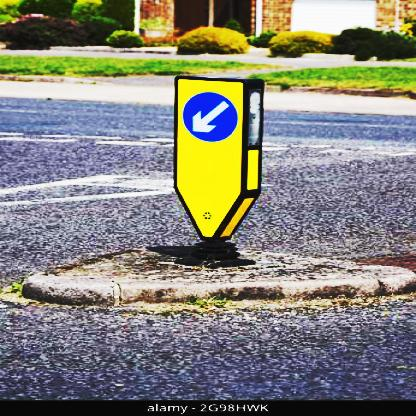Keep left: (179, 84, 247, 146)
